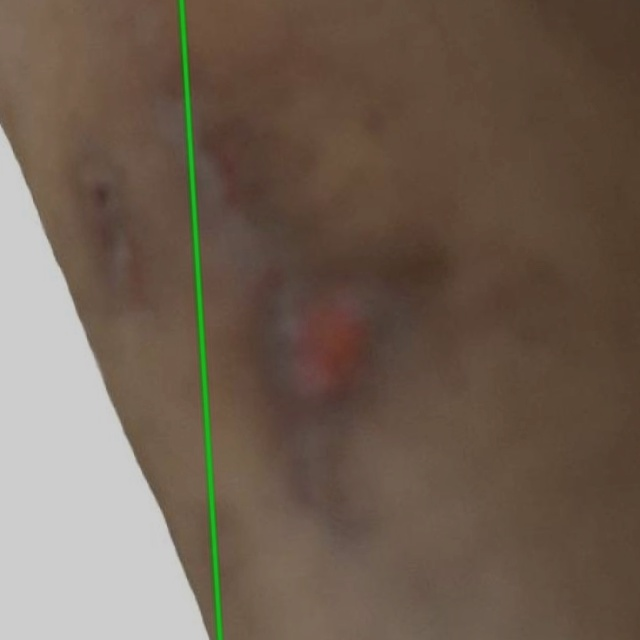Atopic Dermatitis: (0, 0, 219, 639)
